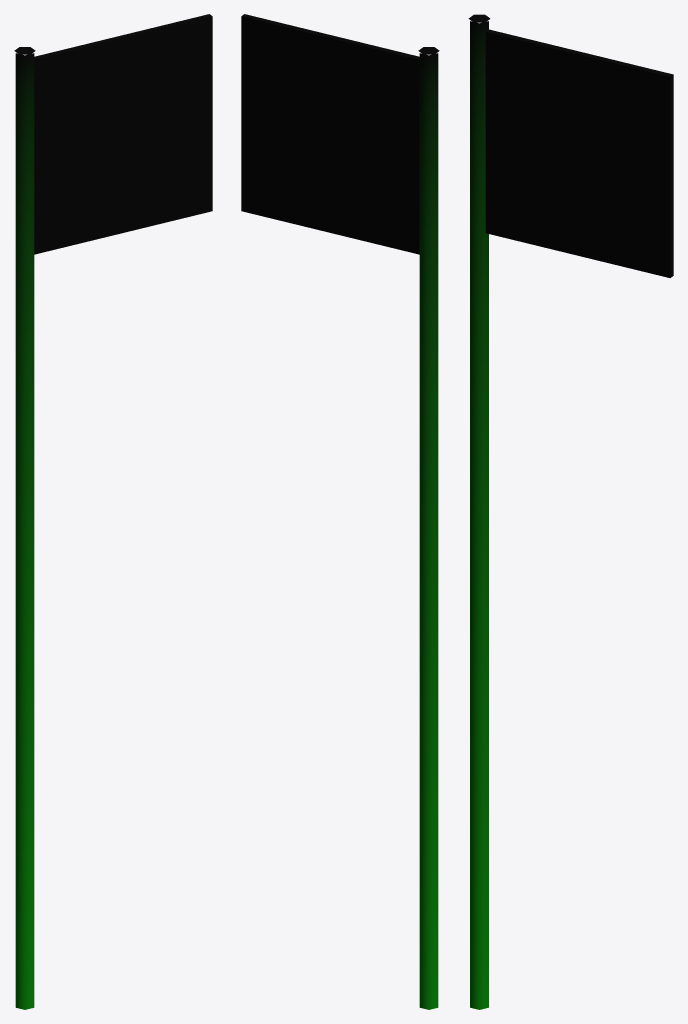
File: l_flag.glb
The picture shows the model from 3 angles, left to right: view 1: azimuth 30°, elevation 25°; view 2: azimuth 150°, elevation 25°; view 3: azimuth 330°, elevation 25°; orthographic projection. The views are drawn at different scales.
Parts seen in each view (by area): view 1: lod0; view 2: lod0; view 3: lod0.
Boxes of the visible parts, x1,y1,x2,y2 form: lod0: [14, 14, 212, 1009]; lod0: [241, 14, 439, 1009]; lod0: [468, 14, 673, 1009].
Size of what is drawn, in the model's own units: 2.1 by 9.8 by 0.2.
